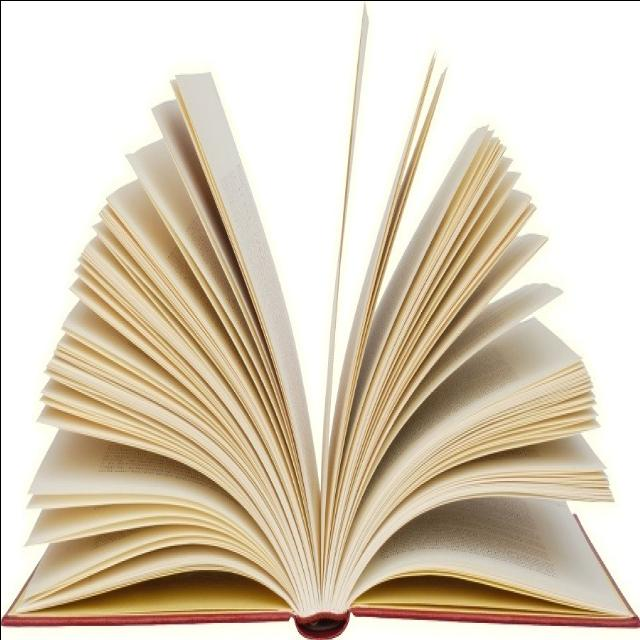book: (0, 11, 630, 640)
